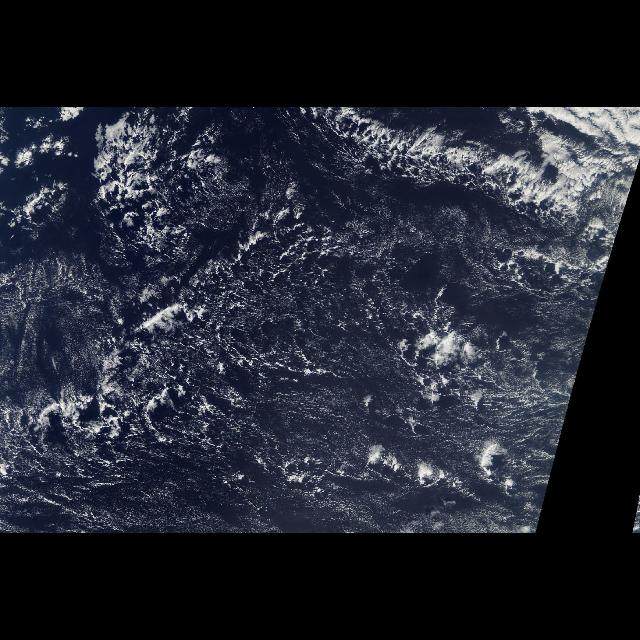Fish: (297, 107, 631, 287)
Gravel: (3, 115, 574, 503)
Sugar: (1, 327, 515, 533), (334, 211, 544, 301), (0, 238, 114, 402)
